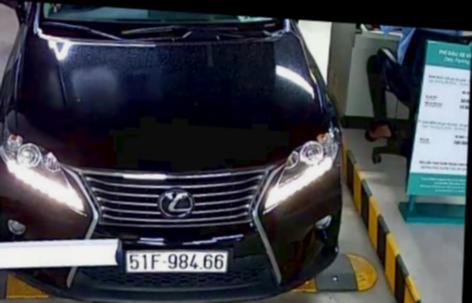License_Plate: (122, 246, 229, 279)
